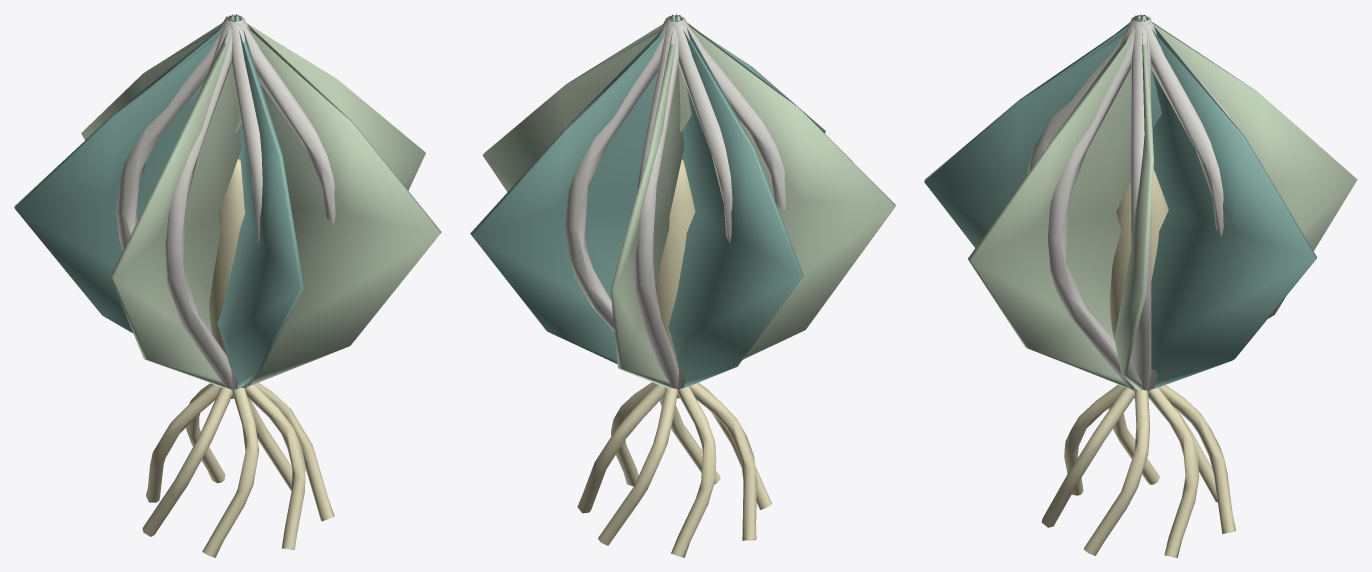
File: bio_lantern_sail_05_far.glb
The picture shows the model from 3 angles, left to right: view 1: azimuth 30°, elevation 25°; view 2: azimuth 150°, elevation 25°; view 3: azimuth 270°, elevation 25°; orthographic projection.
Parts seen in each view (by area): view 1: Ribbed sensory membrane.006, Ribbed sensory membrane.004, Ribbed sensory membrane.003, Ribbed sensory membrane.005, Membrane leading seam.004, Ribbed sensory membrane, Membrane leading seam.003, Membrane leading seam.006, Buoyancy spindle, Membrane leading seam.005, Trailing electroreceptor.004, Trailing electroreceptor.005 (+6 smaller); view 2: Ribbed sensory membrane.001, Ribbed sensory membrane.003, Ribbed sensory membrane.004, Ribbed sensory membrane.002, Ribbed sensory membrane, Membrane leading seam.002, Membrane leading seam.001, Membrane leading seam.003, Buoyancy spindle, Membrane leading seam.004, Trailing electroreceptor.002, Trailing electroreceptor.003 (+5 smaller); view 3: Ribbed sensory membrane.001, Ribbed sensory membrane.006, Ribbed sensory membrane.005, Ribbed sensory membrane.002, Membrane leading seam.006, Ribbed sensory membrane, Membrane leading seam, Membrane leading seam.001, Buoyancy spindle, Trailing electroreceptor, Trailing electroreceptor.006, Trailing electroreceptor.001 (+5 smaller).
Part boxes in pixels (x1,y1,x2,y2): Ribbed sensory membrane.006: [235, 14, 441, 385]; Ribbed sensory membrane.004: [110, 16, 241, 387]; Ribbed sensory membrane.003: [14, 17, 242, 333]; Ribbed sensory membrane.005: [217, 15, 304, 388]; Membrane leading seam.004: [165, 20, 237, 397]; Ribbed sensory membrane: [232, 14, 425, 190]; Membrane leading seam.003: [116, 16, 229, 250]; Membrane leading seam.006: [237, 17, 335, 389]; Buoyancy spindle: [209, 159, 244, 369]; Membrane leading seam.005: [229, 21, 262, 398]; Trailing electroreceptor.004: [202, 388, 258, 557]; Trailing electroreceptor.005: [245, 384, 305, 549]; Ribbed sensory membrane.001: [470, 16, 685, 363]; Ribbed sensory membrane.003: [668, 15, 803, 388]; Ribbed sensory membrane.004: [675, 14, 895, 359]; Ribbed sensory membrane.002: [610, 16, 683, 388]; Ribbed sensory membrane: [482, 16, 691, 191]; Membrane leading seam.002: [634, 21, 680, 398]; Membrane leading seam.001: [565, 17, 673, 387]; Membrane leading seam.003: [673, 20, 732, 397]; Buoyancy spindle: [655, 159, 695, 368]; Membrane leading seam.004: [681, 16, 785, 386]; Trailing electroreceptor.002: [671, 386, 716, 557]; Trailing electroreceptor.003: [689, 383, 757, 540]; Ribbed sensory membrane.001: [1142, 14, 1317, 388]; Ribbed sensory membrane.006: [968, 16, 1152, 387]; Ribbed sensory membrane.005: [924, 16, 1162, 247]; Ribbed sensory membrane.002: [1140, 14, 1357, 318]; Membrane leading seam.006: [1048, 19, 1141, 390]; Ribbed sensory membrane: [1114, 16, 1153, 390]; Membrane leading seam: [1131, 22, 1151, 398]; Membrane leading seam.001: [1141, 18, 1223, 391]; Buoyancy spindle: [1110, 169, 1168, 340]; Trailing electroreceptor: [1148, 388, 1199, 557]; Trailing electroreceptor.006: [1084, 390, 1150, 555]; Trailing electroreceptor.001: [1158, 385, 1236, 534].
Size of the model in its own units: 2.14 by 2.82 by 2.19.
